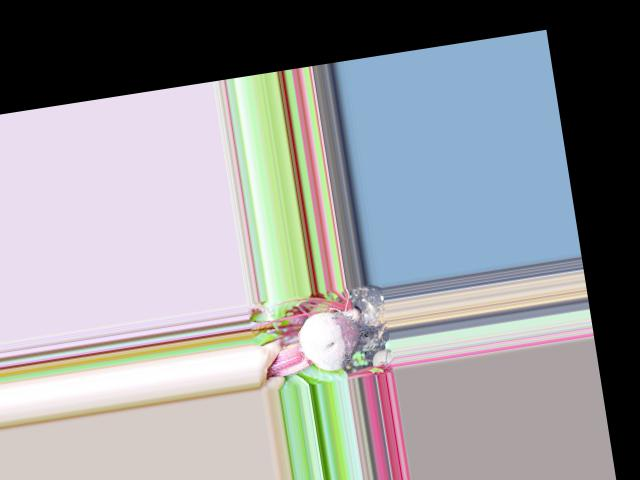beet: (258, 302, 393, 380)
